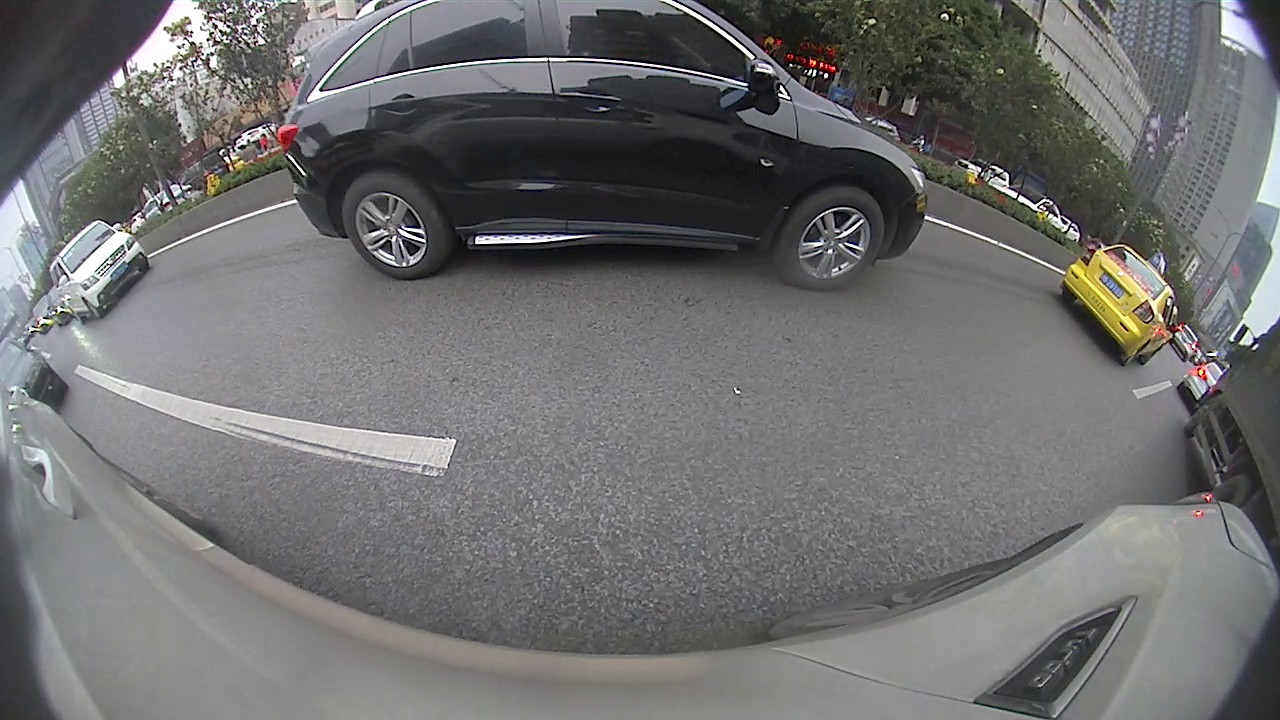bus: (272, 167, 393, 248), (183, 212, 236, 254)
car: (56, 246, 240, 390), (2, 288, 117, 427), (332, 171, 431, 235), (596, 156, 637, 187)
